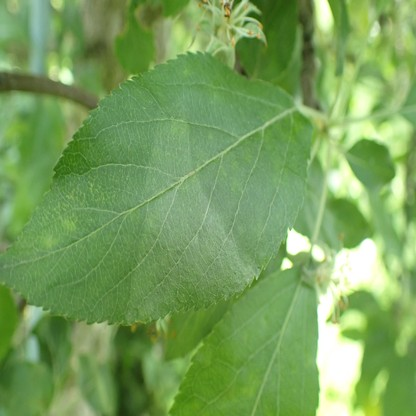scab: (265, 111, 310, 176), (171, 117, 192, 136), (42, 235, 59, 249), (60, 216, 76, 227)
